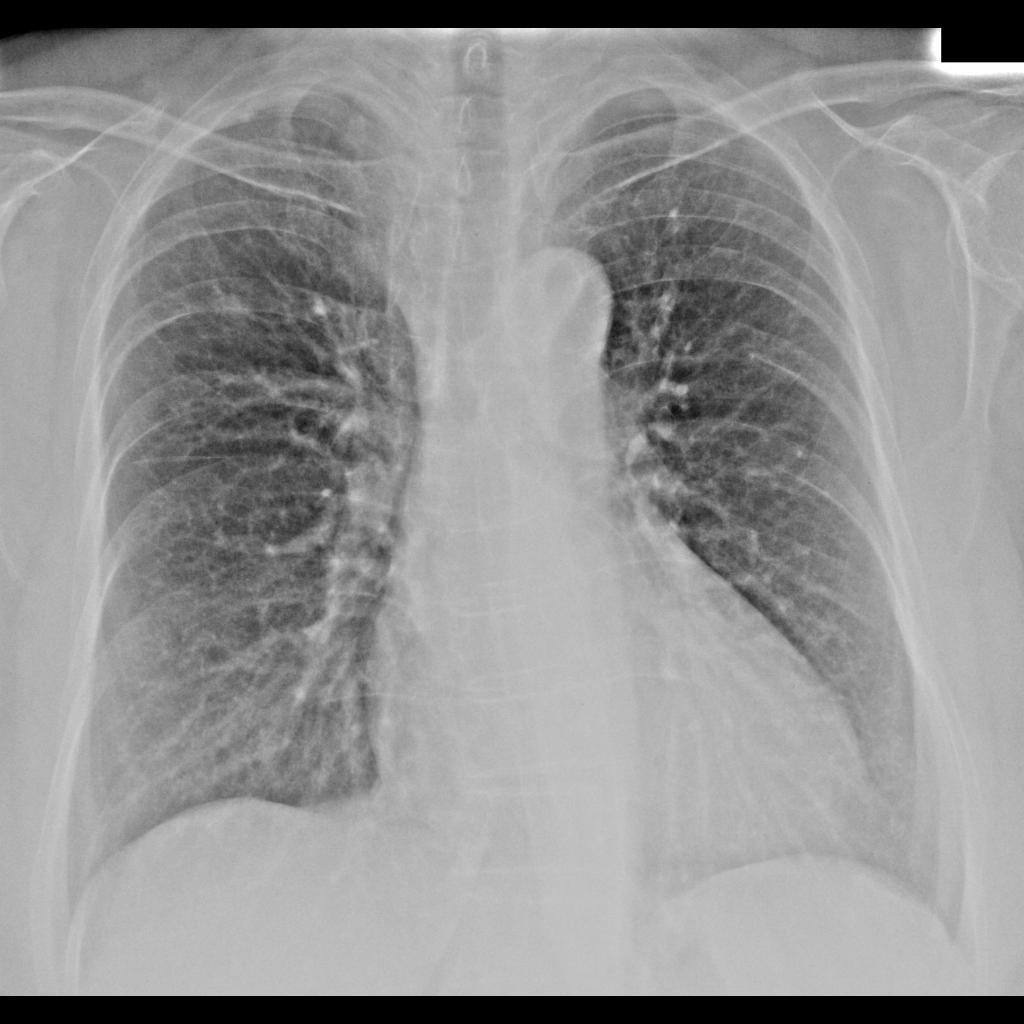Nodule: (220, 308, 246, 334)
